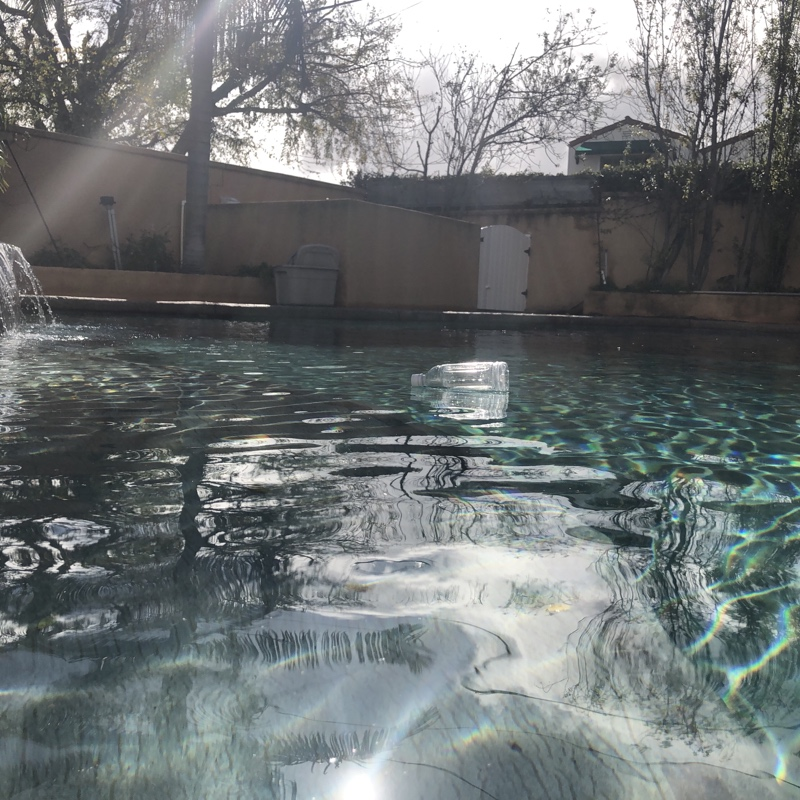Plastic Bottle: (402, 357, 511, 408)
